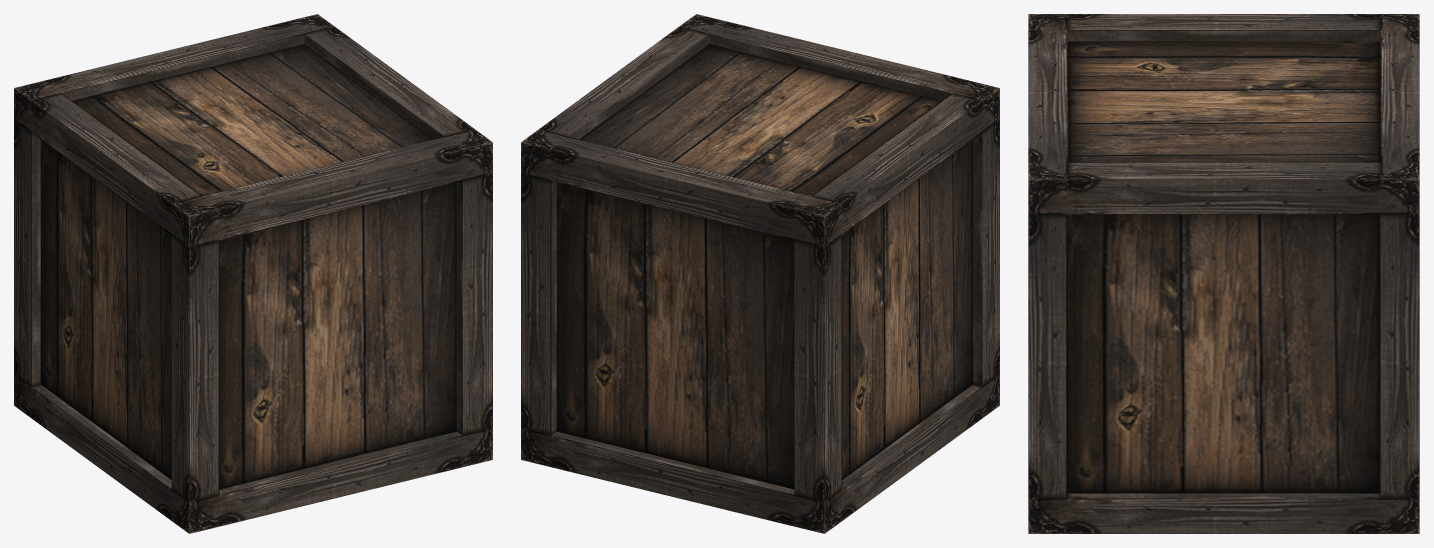
Rendered from Lab_Crate.gltf.
The picture shows the model from 3 angles, left to right: view 1: azimuth 30°, elevation 25°; view 2: azimuth 150°, elevation 25°; view 3: azimuth 270°, elevation 25°; orthographic projection. The views are drawn at different scales.
Visible parts, largest first — view 1: Lab_Crate; view 2: Lab_Crate; view 3: Lab_Crate.
Boxes of the visible parts, box(x1,y1,x2,y2) form: Lab_Crate: box(14, 14, 492, 533); Lab_Crate: box(521, 14, 999, 533); Lab_Crate: box(1028, 14, 1419, 533).
Bounding box in the file's own units: 0.0091 × 0.0091 × 0.0091.
Materials: 1 (1 with a texture image).
